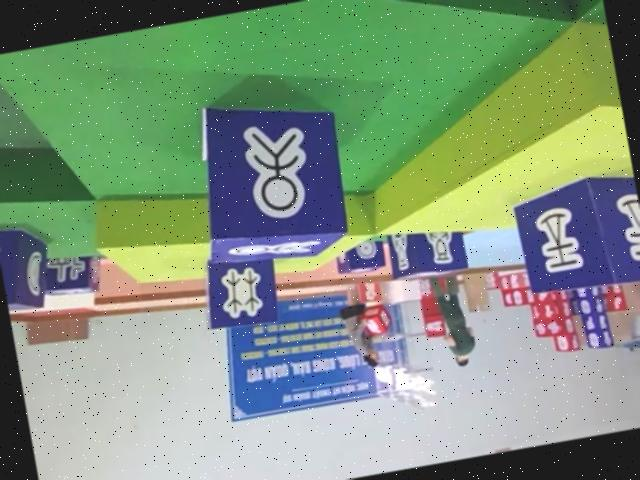R2 Real Blue: (184, 83, 356, 274), (510, 166, 640, 302), (194, 248, 281, 334), (0, 209, 58, 310), (0, 209, 55, 312), (385, 219, 468, 280), (34, 250, 103, 302), (333, 237, 387, 275)
